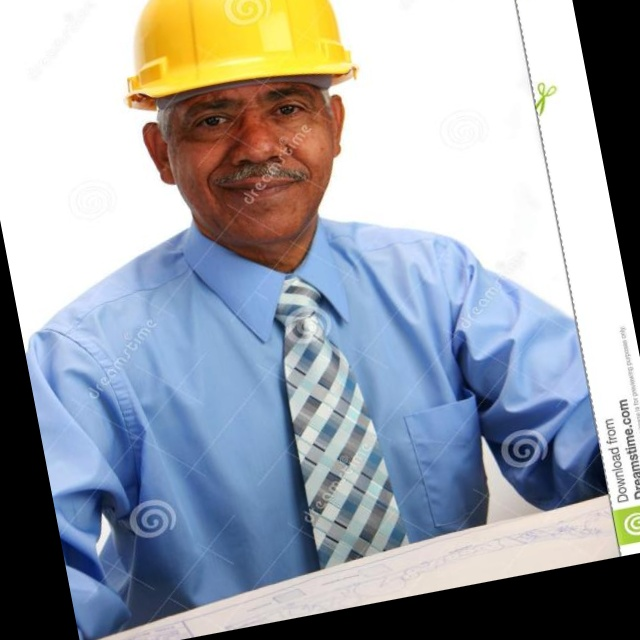Con_Casco: (115, 0, 383, 259)
Sin_Chaleco: (29, 190, 511, 607)
